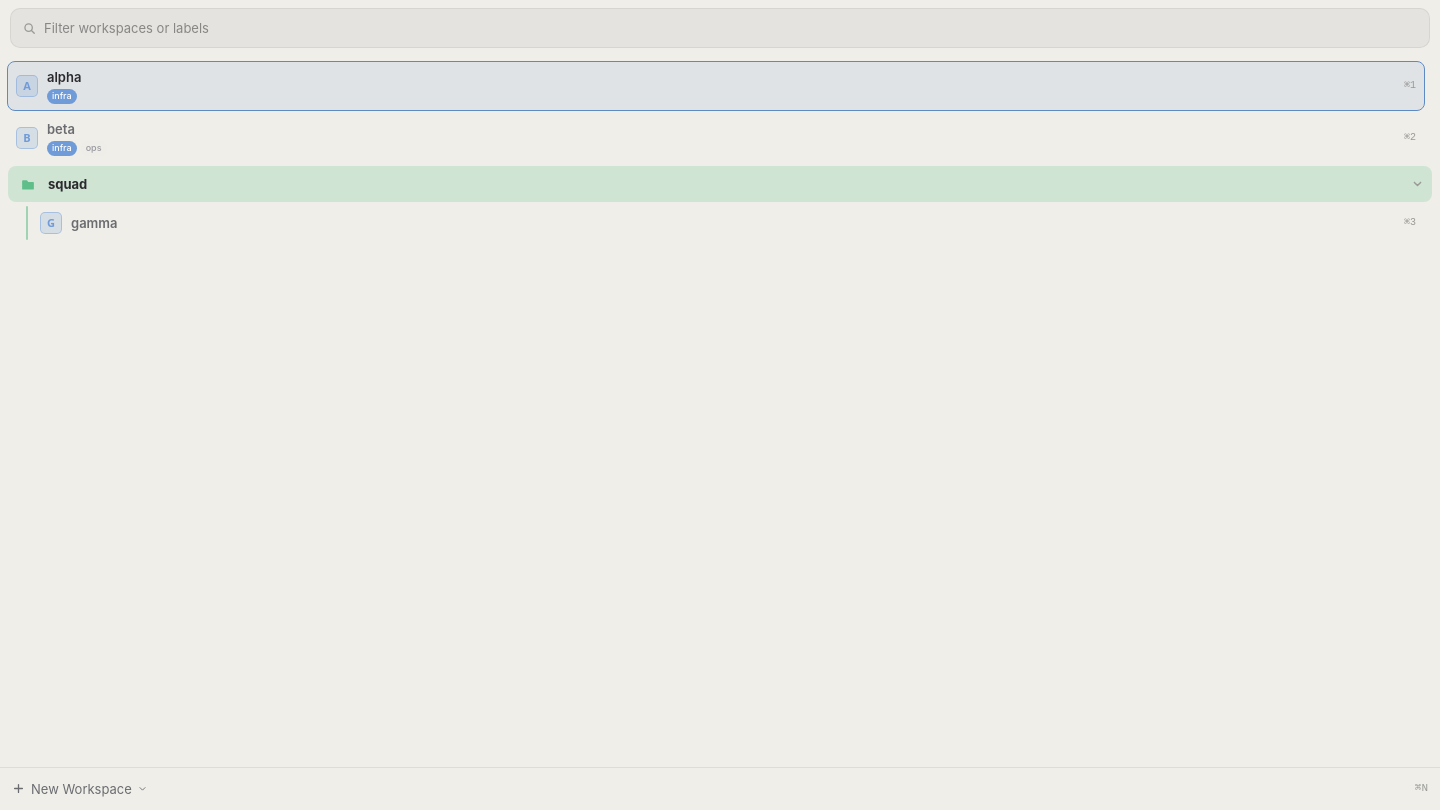
Test: escape handle › yields to an open context menu, which owns Escape itself
Click the option with test id "workspace-row" showing "A alpha infra ⌘1" at [64, 77], box [8,62,1424,110]
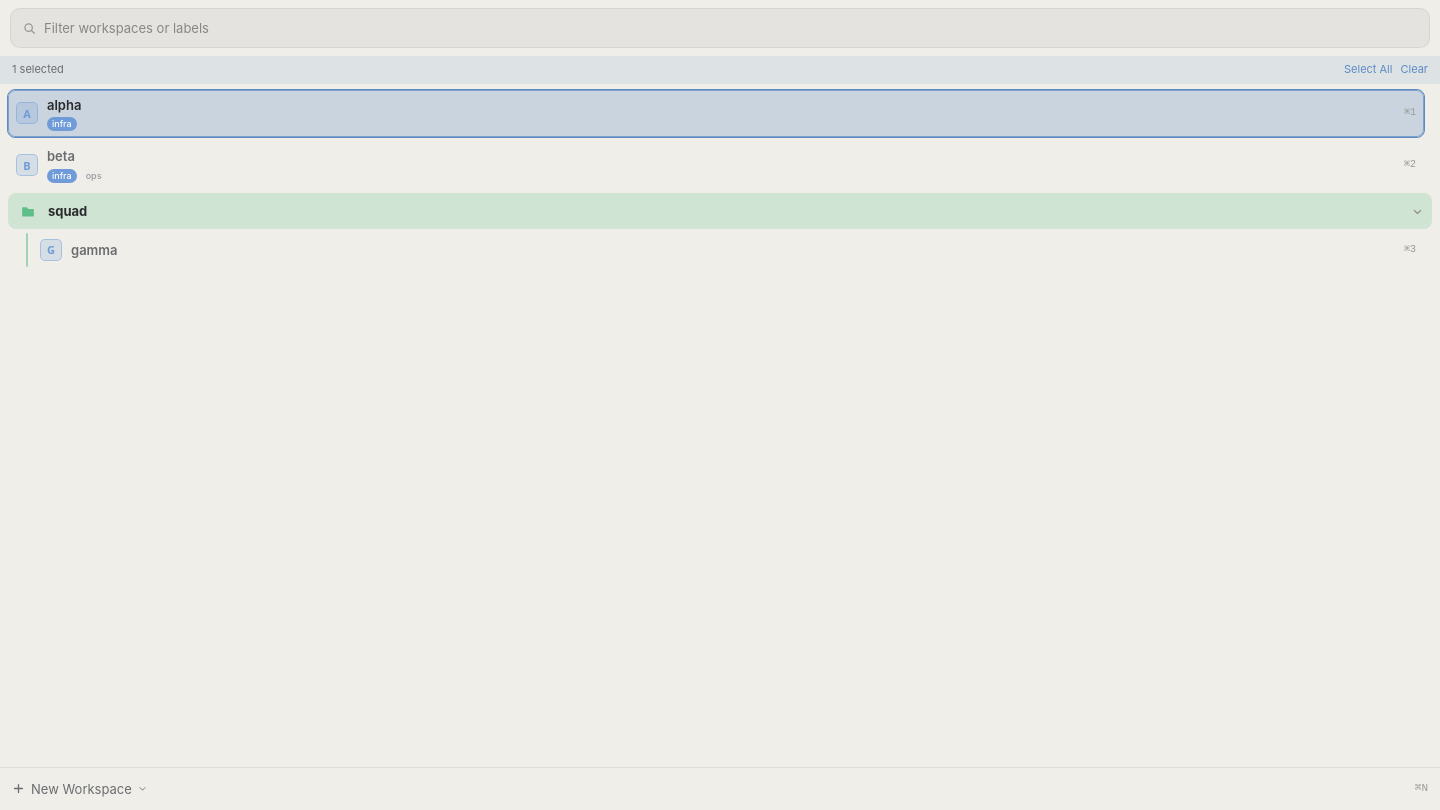
Click the option with test id "workspace-row" showing "B beta infra ops ⌘2" at [27, 165], box [8,141,1424,189]
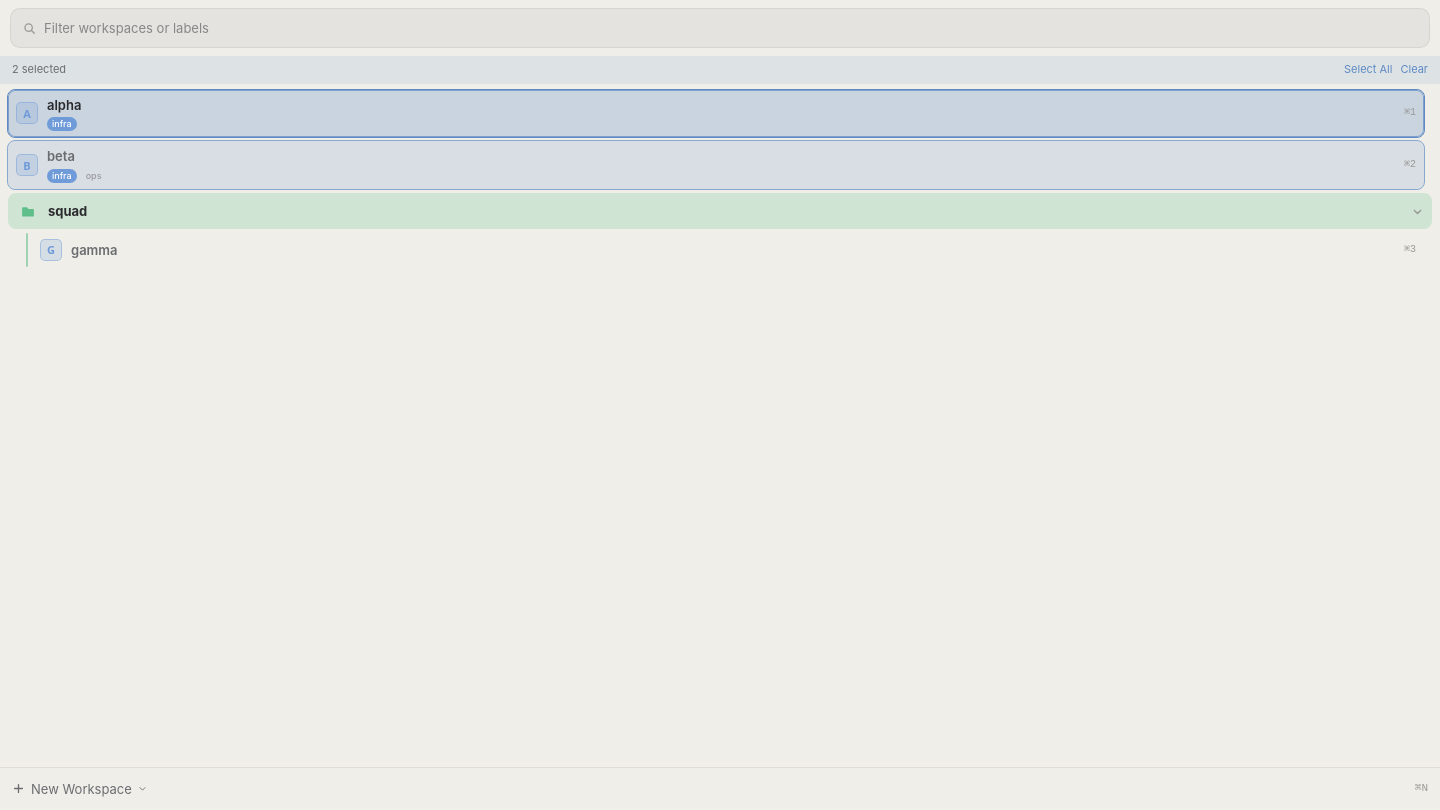
Right-click the option with test id "workspace-row" showing "A alpha infra ⌘1" at [64, 105], box [8,90,1424,137]
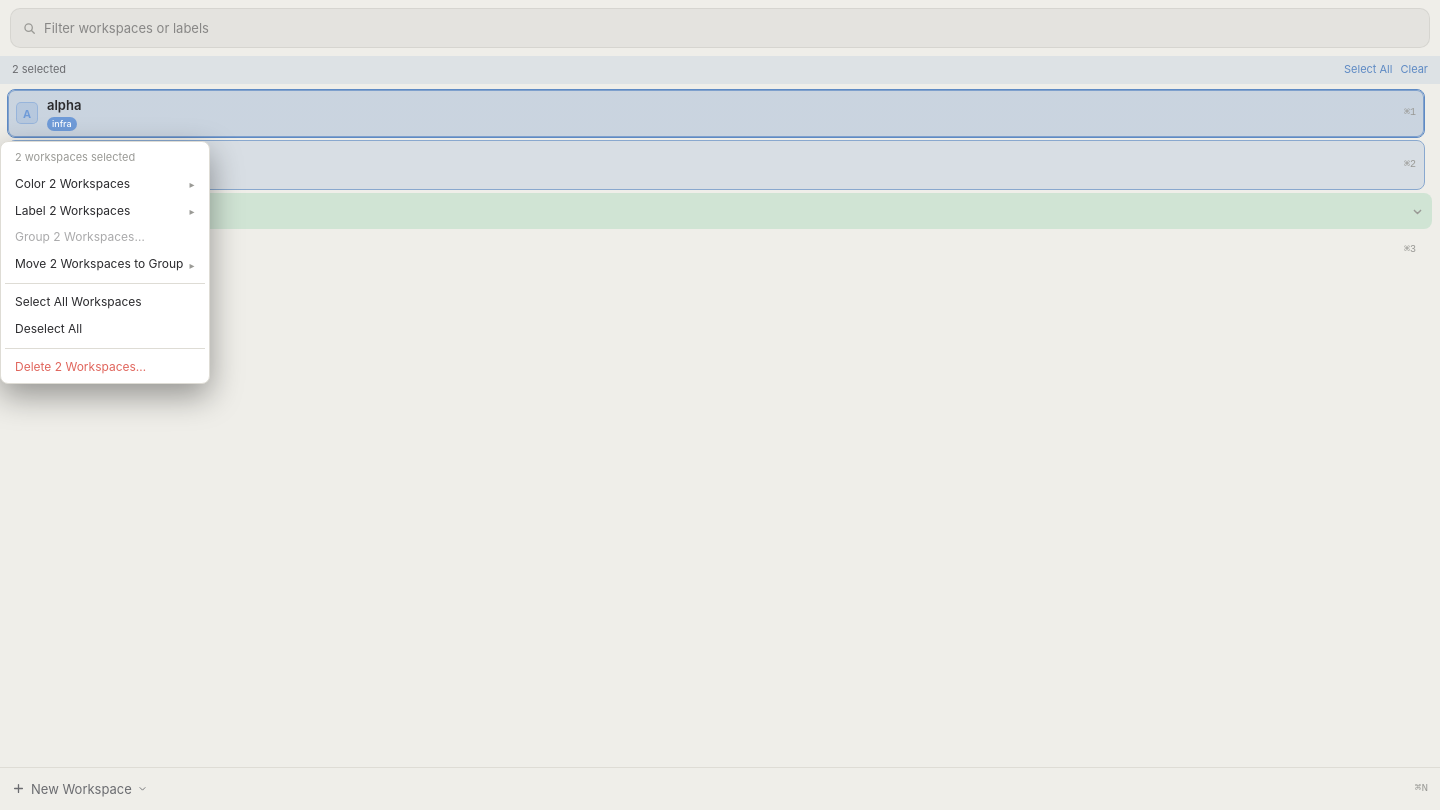
Check: the menu with test id "context-menu" is shown, box [0,141,210,384]
Press Escape
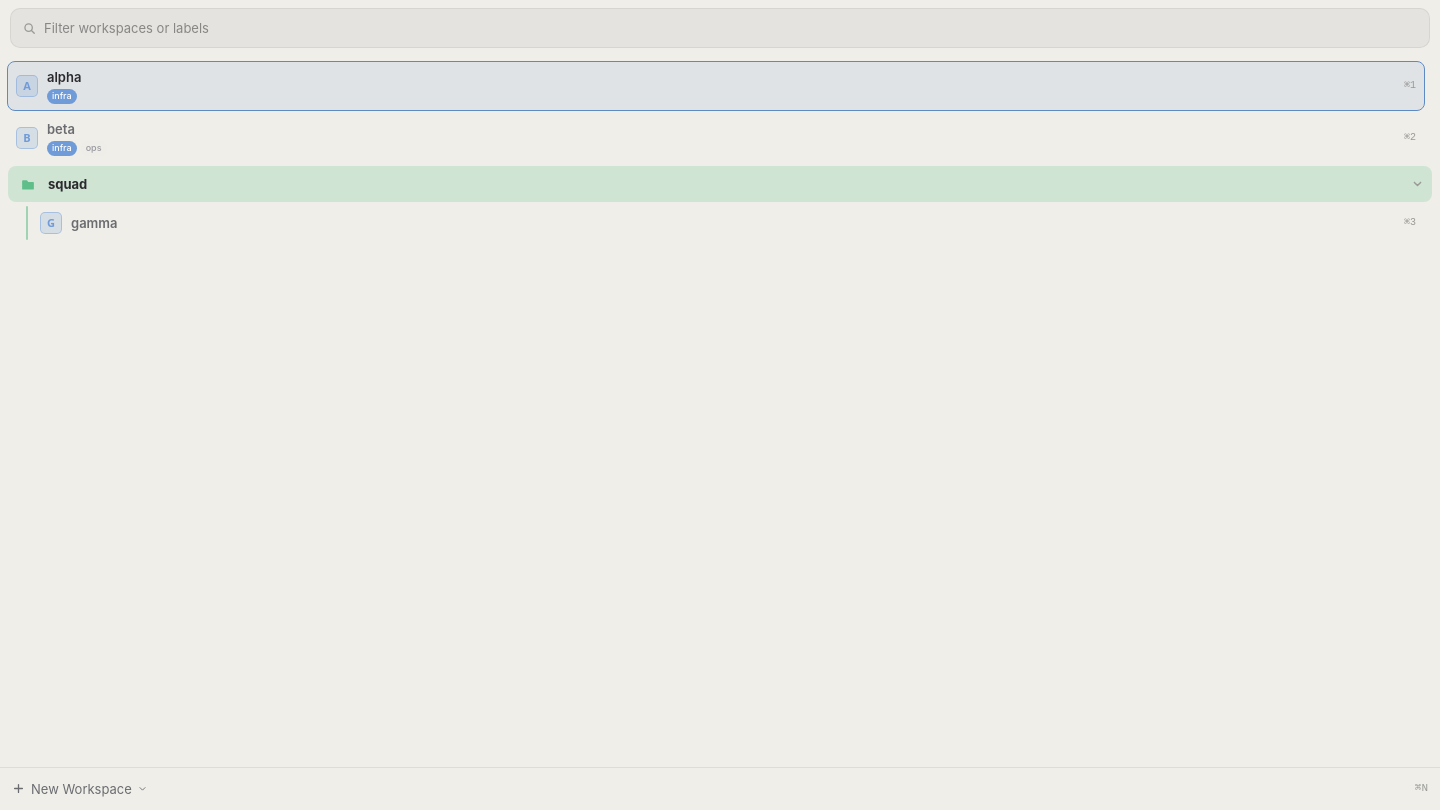
Check: the menu with test id "context-menu" is gone
